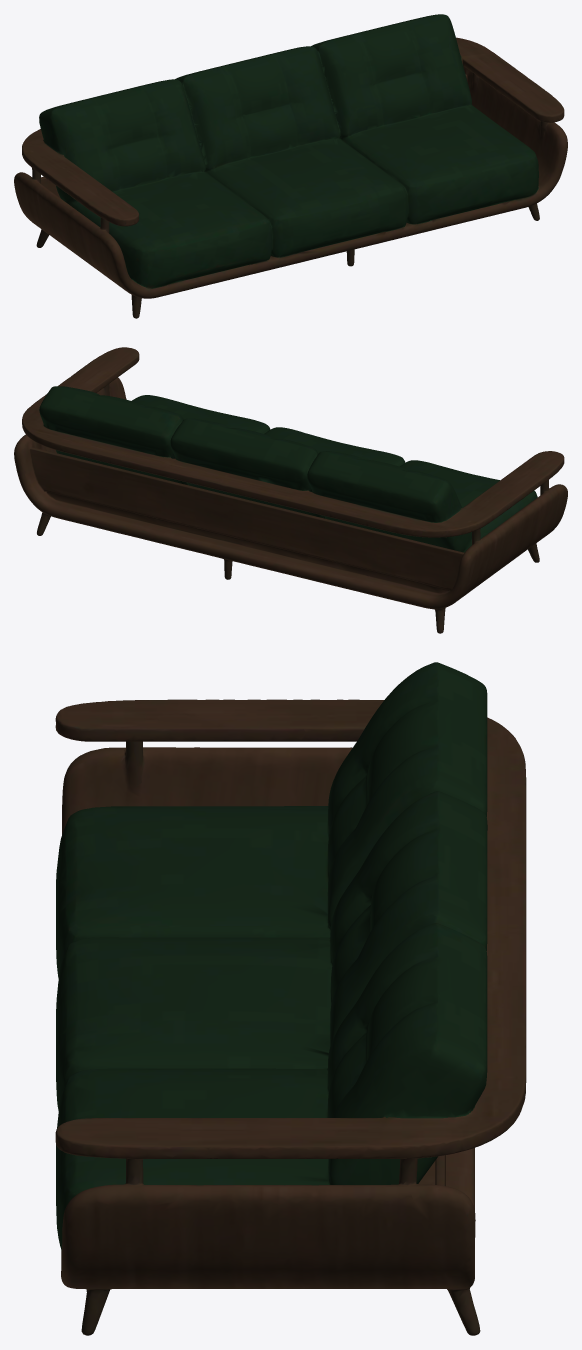
The model's file is midcentury-green-sofa.glb.
3 renders of one model, top to bottom at view 1: azimuth 30°, elevation 25°; view 2: azimuth 150°, elevation 25°; view 3: azimuth 270°, elevation 25°, orthographic. The views are drawn at different scales.
Parts seen in each view (by area): view 1: world; view 2: world; view 3: world.
Part boxes in pixels (x1,y1,x2,y2): world: (14,14,567,318); world: (14,347,567,633); world: (55,662,526,1335).
Bounding box in the file's own units: 1 × 0.3047 × 0.4456.
Materials: 1 (1 with a texture image).
